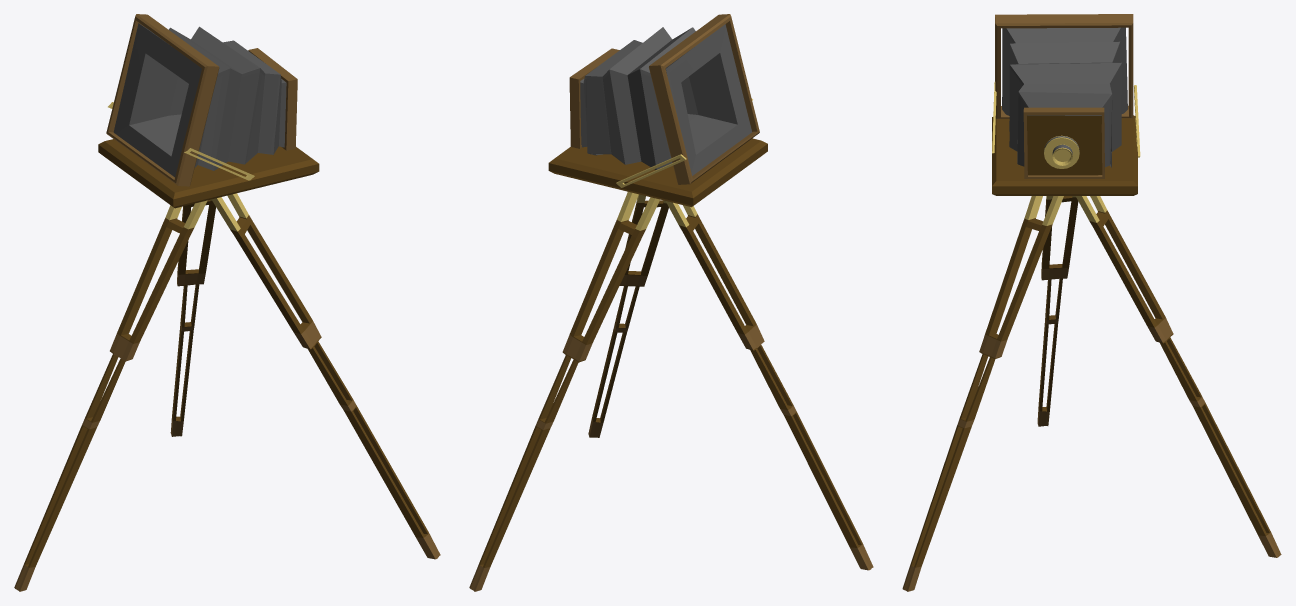
The model's file is Camera.fbx.
3 renders of one model, left to right at view 1: azimuth 30°, elevation 25°; view 2: azimuth 150°, elevation 25°; view 3: azimuth 270°, elevation 25°, orthographic. The views are drawn at different scales.
Visible parts, largest first — view 1: pCube17; view 2: pCube17; view 3: pCube17.
Part boxes in pixels (left/top/right/bottom): pCube17: left=14, top=14, right=440, bottom=591; pCube17: left=469, top=14, right=873, bottom=591; pCube17: left=902, top=14, right=1281, bottom=591.
Size of the model in its own units: 0.8431 by 1.14 by 0.8016.
